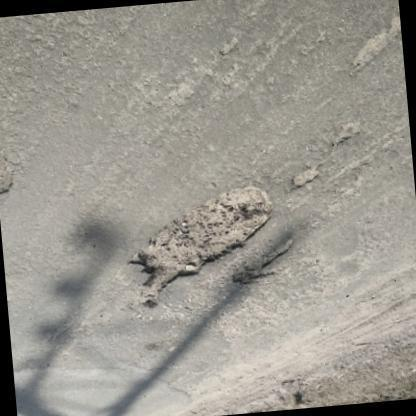pothole: (130, 180, 274, 298), (347, 15, 403, 81), (232, 238, 296, 286), (333, 119, 365, 152), (288, 165, 321, 194)
